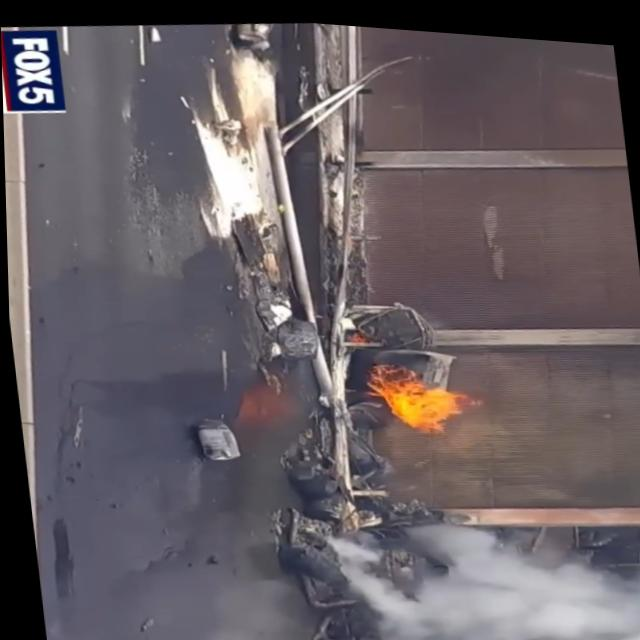Fire: (361, 355, 467, 428)
